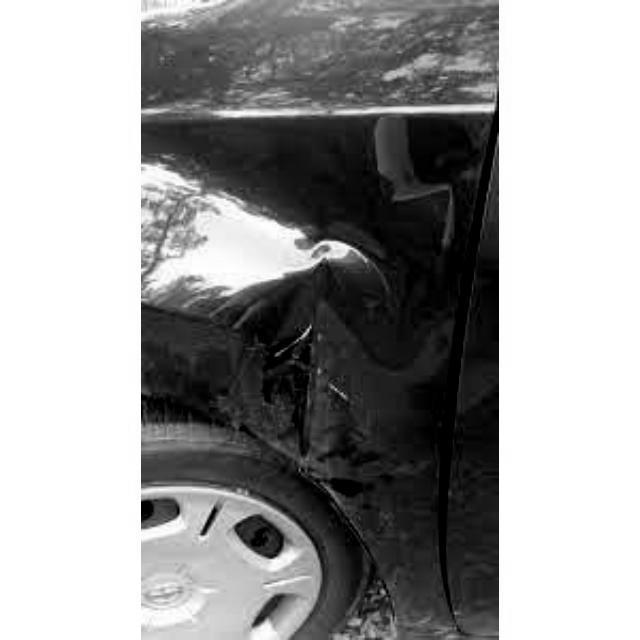fender-dent: (141, 19, 473, 539)
